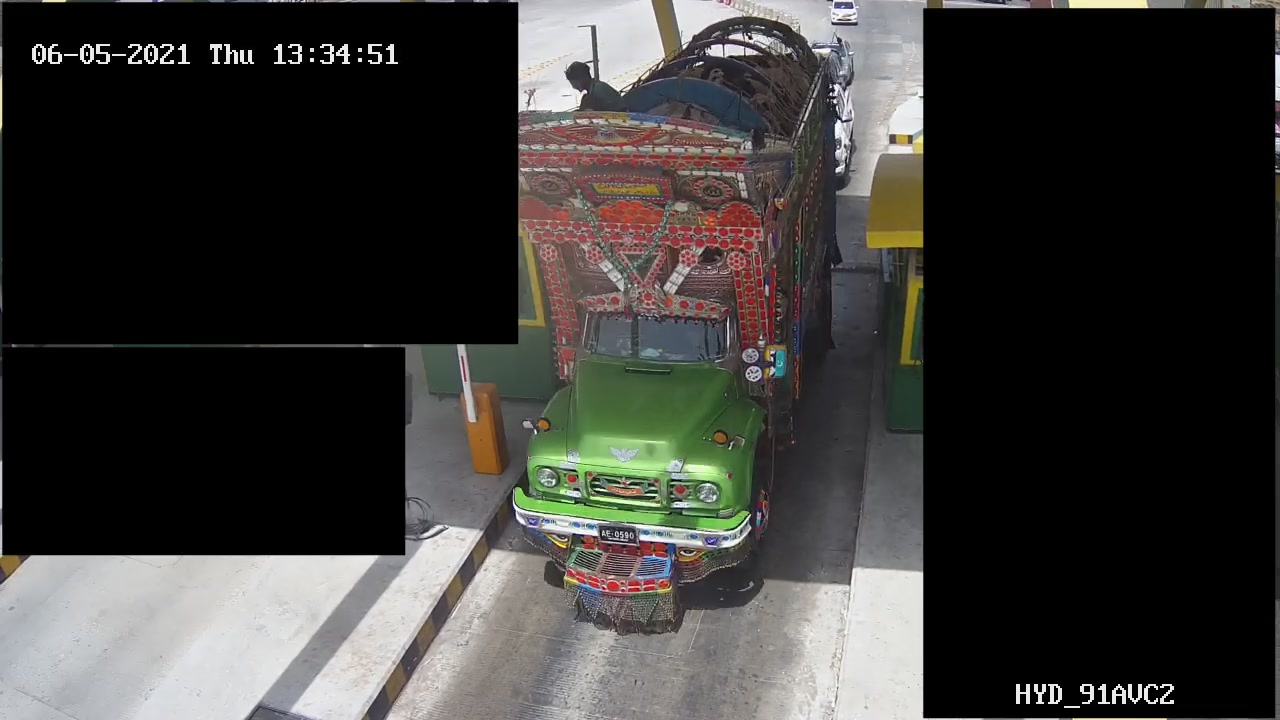F5: (508, 15, 832, 594)
